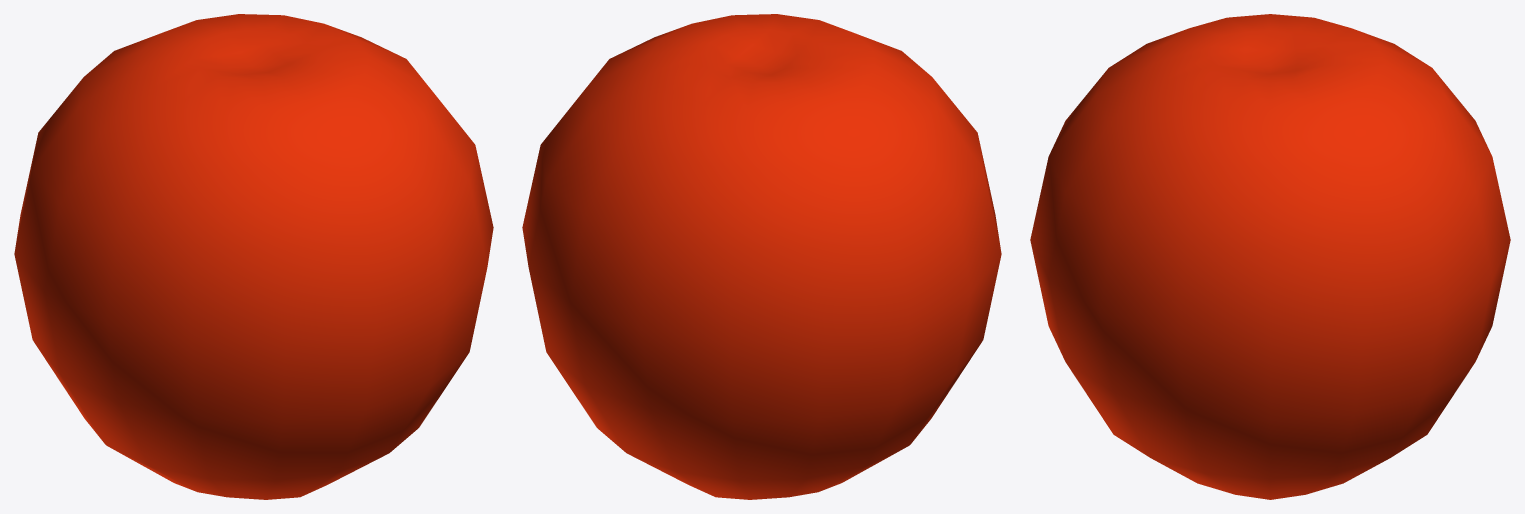
The model's file is garnish-cherry.fbx.
3 views of the same model, side by side, from view 1: azimuth 30°, elevation 25°; view 2: azimuth 150°, elevation 25°; view 3: azimuth 270°, elevation 25° (orthographic).
Visible parts, largest first — view 1: garnish_cherry; view 2: garnish_cherry; view 3: garnish_cherry.
Part boxes in pixels (x1,y1,x2,y2): garnish_cherry: (14,14,493,499); garnish_cherry: (522,14,1001,499); garnish_cherry: (1030,14,1510,499).
Bounding box in the file's own units: 0.0199 × 0.0194 × 0.0199.
